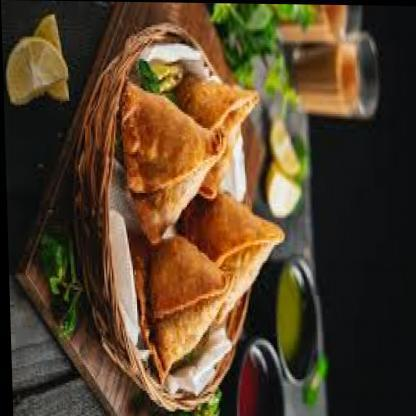samosa: (117, 78, 226, 246), (127, 236, 235, 384), (172, 190, 283, 319), (170, 74, 259, 197)
